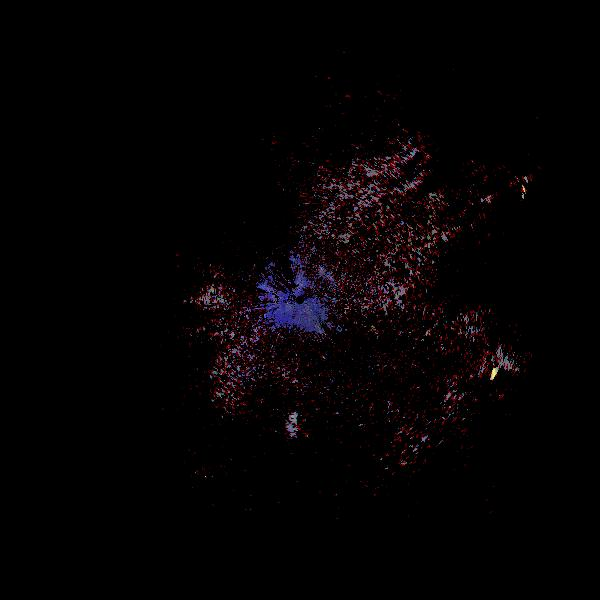roost: (289, 415, 301, 427)
